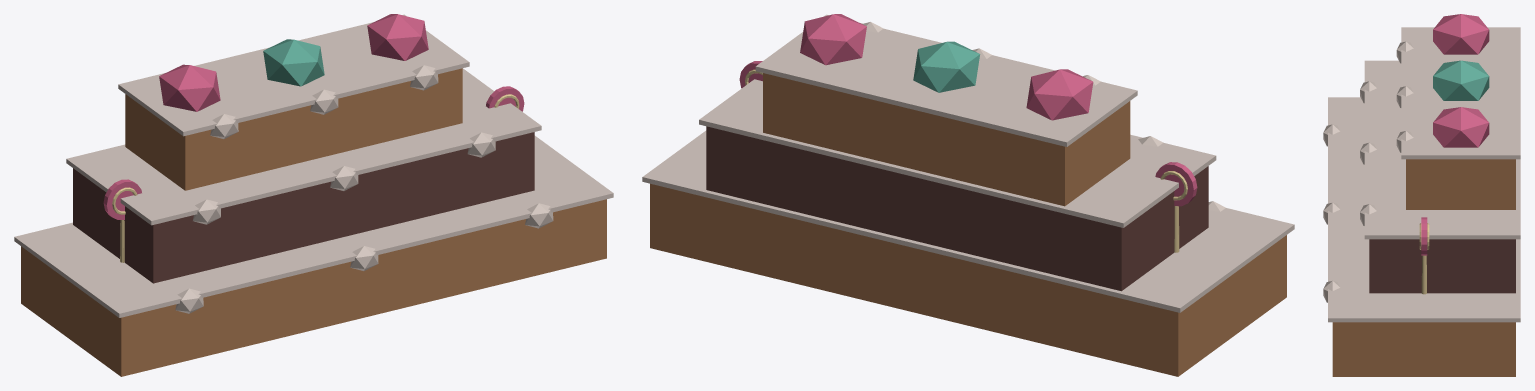
Rendered from Candyland_CandyCliffBackdrop_Showcase.glb.
3 renders of one model, left to right at view 1: azimuth 30°, elevation 25°; view 2: azimuth 150°, elevation 25°; view 3: azimuth 270°, elevation 25°, orthographic. The views are drawn at different scales.
Parts seen in each view (by area): view 1: Candyland_CandyCliffBackdrop_Showcase; view 2: Candyland_CandyCliffBackdrop_Showcase; view 3: Candyland_CandyCliffBackdrop_Showcase.
Part boxes in pixels (x1,y1,x2,y2): Candyland_CandyCliffBackdrop_Showcase: [14, 14, 613, 376]; Candyland_CandyCliffBackdrop_Showcase: [642, 14, 1294, 376]; Candyland_CandyCliffBackdrop_Showcase: [1323, 14, 1520, 376].
Size of the model in its own units: 14.25 by 6.25 by 5.38.
